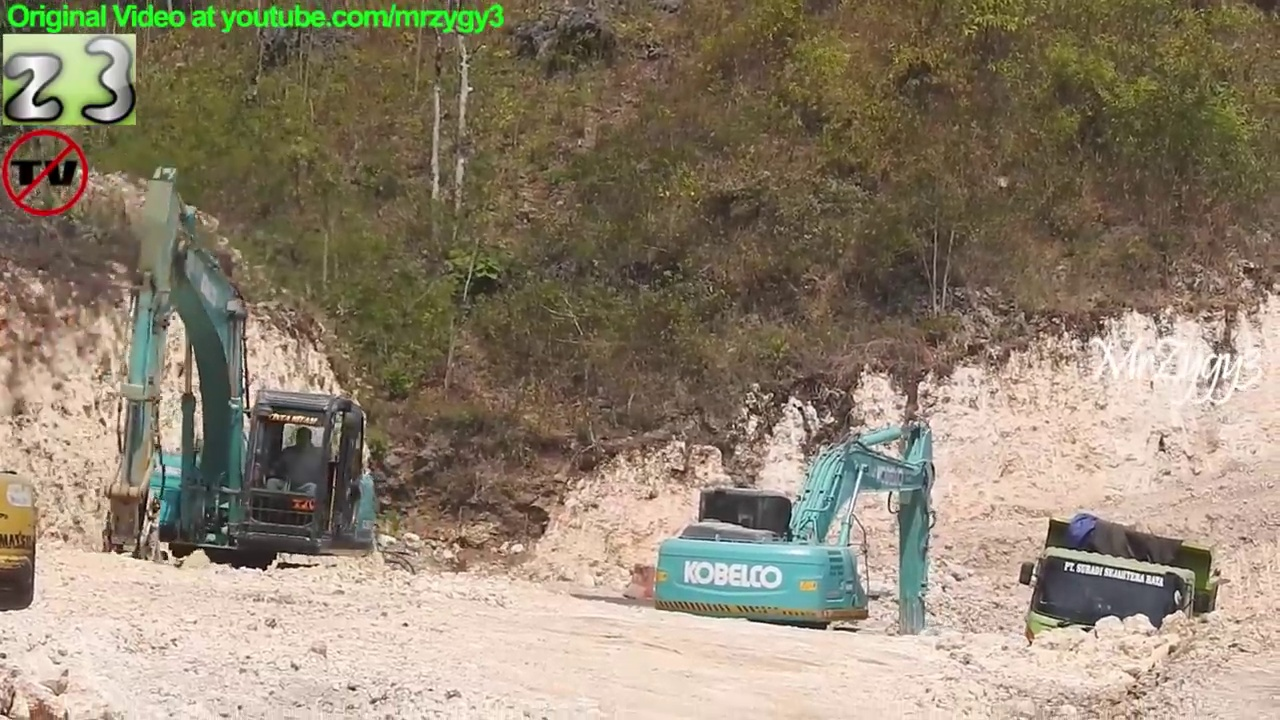excavator: (92, 158, 385, 607), (643, 409, 943, 698), (1, 459, 46, 620)
truck: (1015, 506, 1231, 702)
